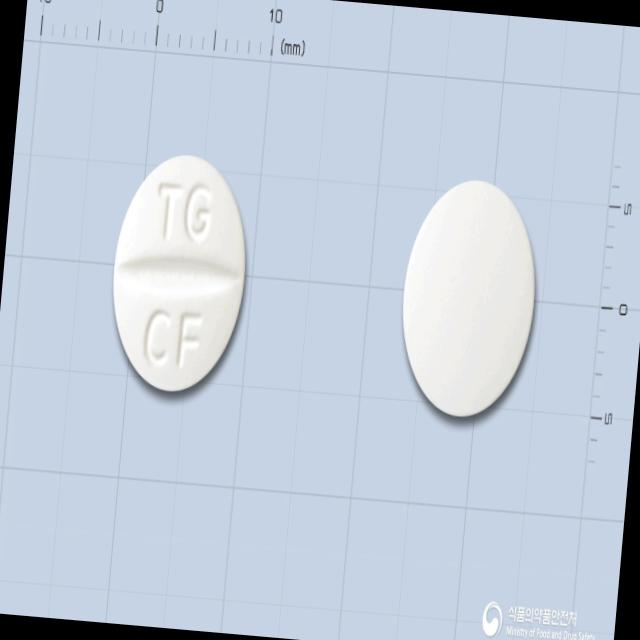Taiguk Ciprofloxacin HCl Tab: (103, 149, 255, 399)
